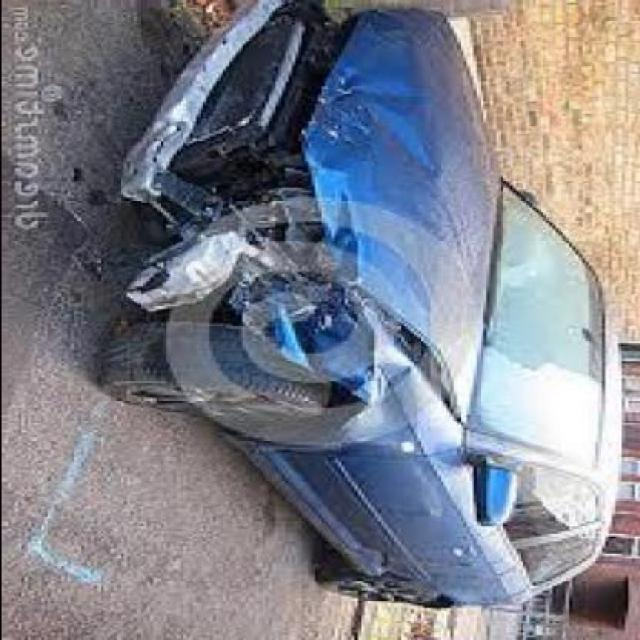damage: (125, 0, 501, 438)
